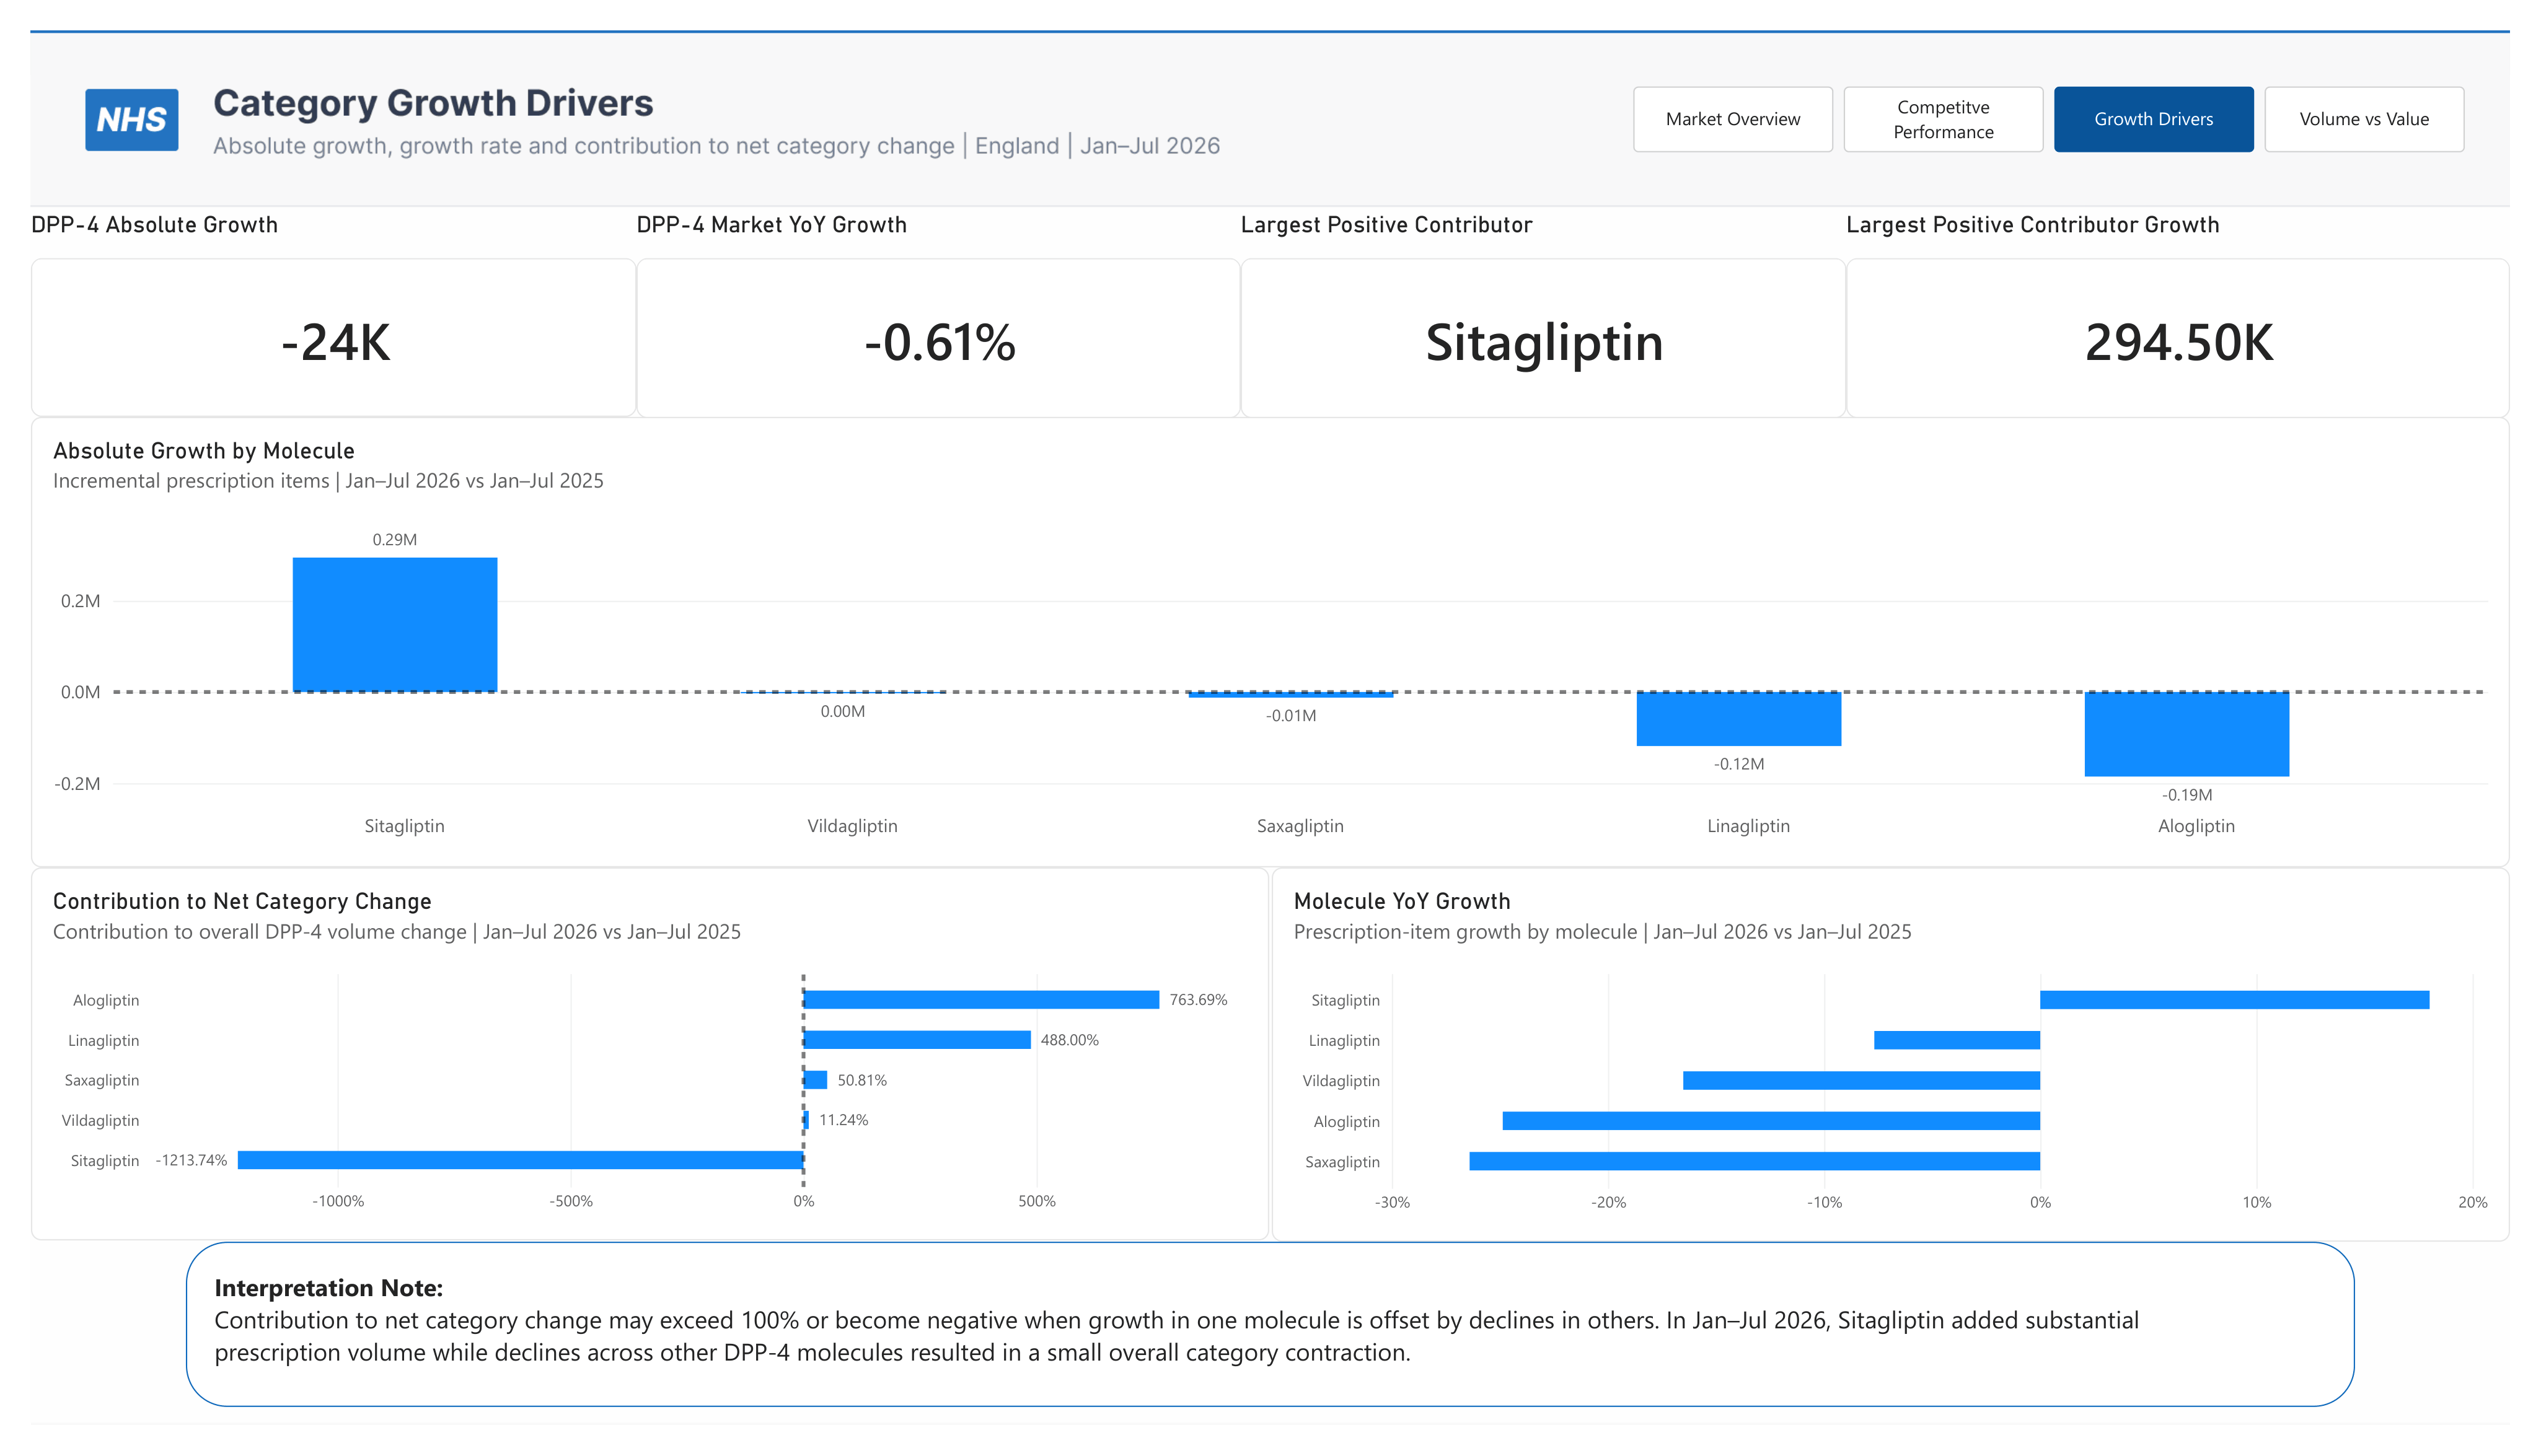

The dashboard page shown, as its layout file describes it:
{"tool":"powerbi","page":{"name":"Growth Drivers","canvas":[1920,1080],"ordinal":2},"visuals":[{"type":"cardVisual","title":"DPP-4 Absolute Growth","fields":{"Data":["Measure Table.DPP4 Absolute Growth"]},"box":[0,139.3,468.7,159.3],"z":0},{"type":"shape","box":[120,938,1680,128],"z":0,"group":"g1"},{"type":"cardVisual","title":"DPP-4 Market YoY Growth","fields":{"Data":["Measure Table.DPP4 Market YoY Growth"]},"box":[468.7,139.3,468.7,161.1],"z":1000},{"type":"textbox","box":[142,960,1592,86],"z":1000,"group":"g1"},{"type":"cardVisual","title":"Largest Positive Contributor","fields":{"Data":["Measure Table.Largest Positive Contributor"]},"box":[937.4,139.3,468.7,161.1],"z":2000},{"type":"cardVisual","title":"Largest Positive Contributor Growth","fields":{"Data":["Measure Table.Largest Positive Contributor Growth"]},"box":[1406.1,139.3,513.9,161.1],"z":3000},{"type":"clusteredColumnChart","title":"Absolute Growth by Molecule","fields":{"Category":["Dim_Chemical.Molecule"],"Y":["Measure Table.Absolute Items Growth"]},"box":[0,298.6,1920.1,349.3],"z":4000},{"type":"clusteredBarChart","title":"Contribution to Net Category Change","fields":{"Category":["Dim_Chemical.Molecule"],"Y":["Measure Table.Contribution to Net Category Change"]},"box":[0,647.9,959.1,289.5],"z":5000},{"type":"clusteredBarChart","title":"Molecule YoY Growth","fields":{"Category":["Dim_Chemical.Molecule"],"Y":["Measure Table.Items YoY Growth"]},"box":[961,648.5,959.1,289.5],"z":6000},{"type":"group","id":"g1","title":"Group 1","box":[120,938,1680,128],"z":7000},{"type":"pageNavigator","box":[1241.4,43.4,646,50.7],"z":7001}]}

Visuals, with their boxes on the page's 1920x1080 design canvas (x1, y1, x2, y2). These are canvas units, not pixel positions in the 2541x1456 screenshot, which may show the page scaled, cropped or inside an application window:
"DPP-4 Absolute Growth" cardVisual: locate(0, 139, 469, 299)
shape: locate(120, 938, 1800, 1066)
"DPP-4 Market YoY Growth" cardVisual: locate(469, 139, 937, 300)
textbox: locate(142, 960, 1734, 1046)
"Largest Positive Contributor" cardVisual: locate(937, 139, 1406, 300)
"Largest Positive Contributor Growth" cardVisual: locate(1406, 139, 1920, 300)
"Absolute Growth by Molecule" clusteredColumnChart: locate(0, 299, 1920, 648)
"Contribution to Net Category Change" clusteredBarChart: locate(0, 648, 959, 937)
"Molecule YoY Growth" clusteredBarChart: locate(961, 648, 1920, 938)
"Group 1" group: locate(120, 938, 1800, 1066)
pageNavigator: locate(1241, 43, 1887, 94)
